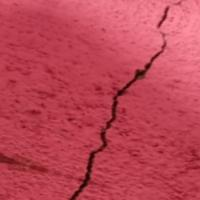crack: (38, 2, 187, 199)
